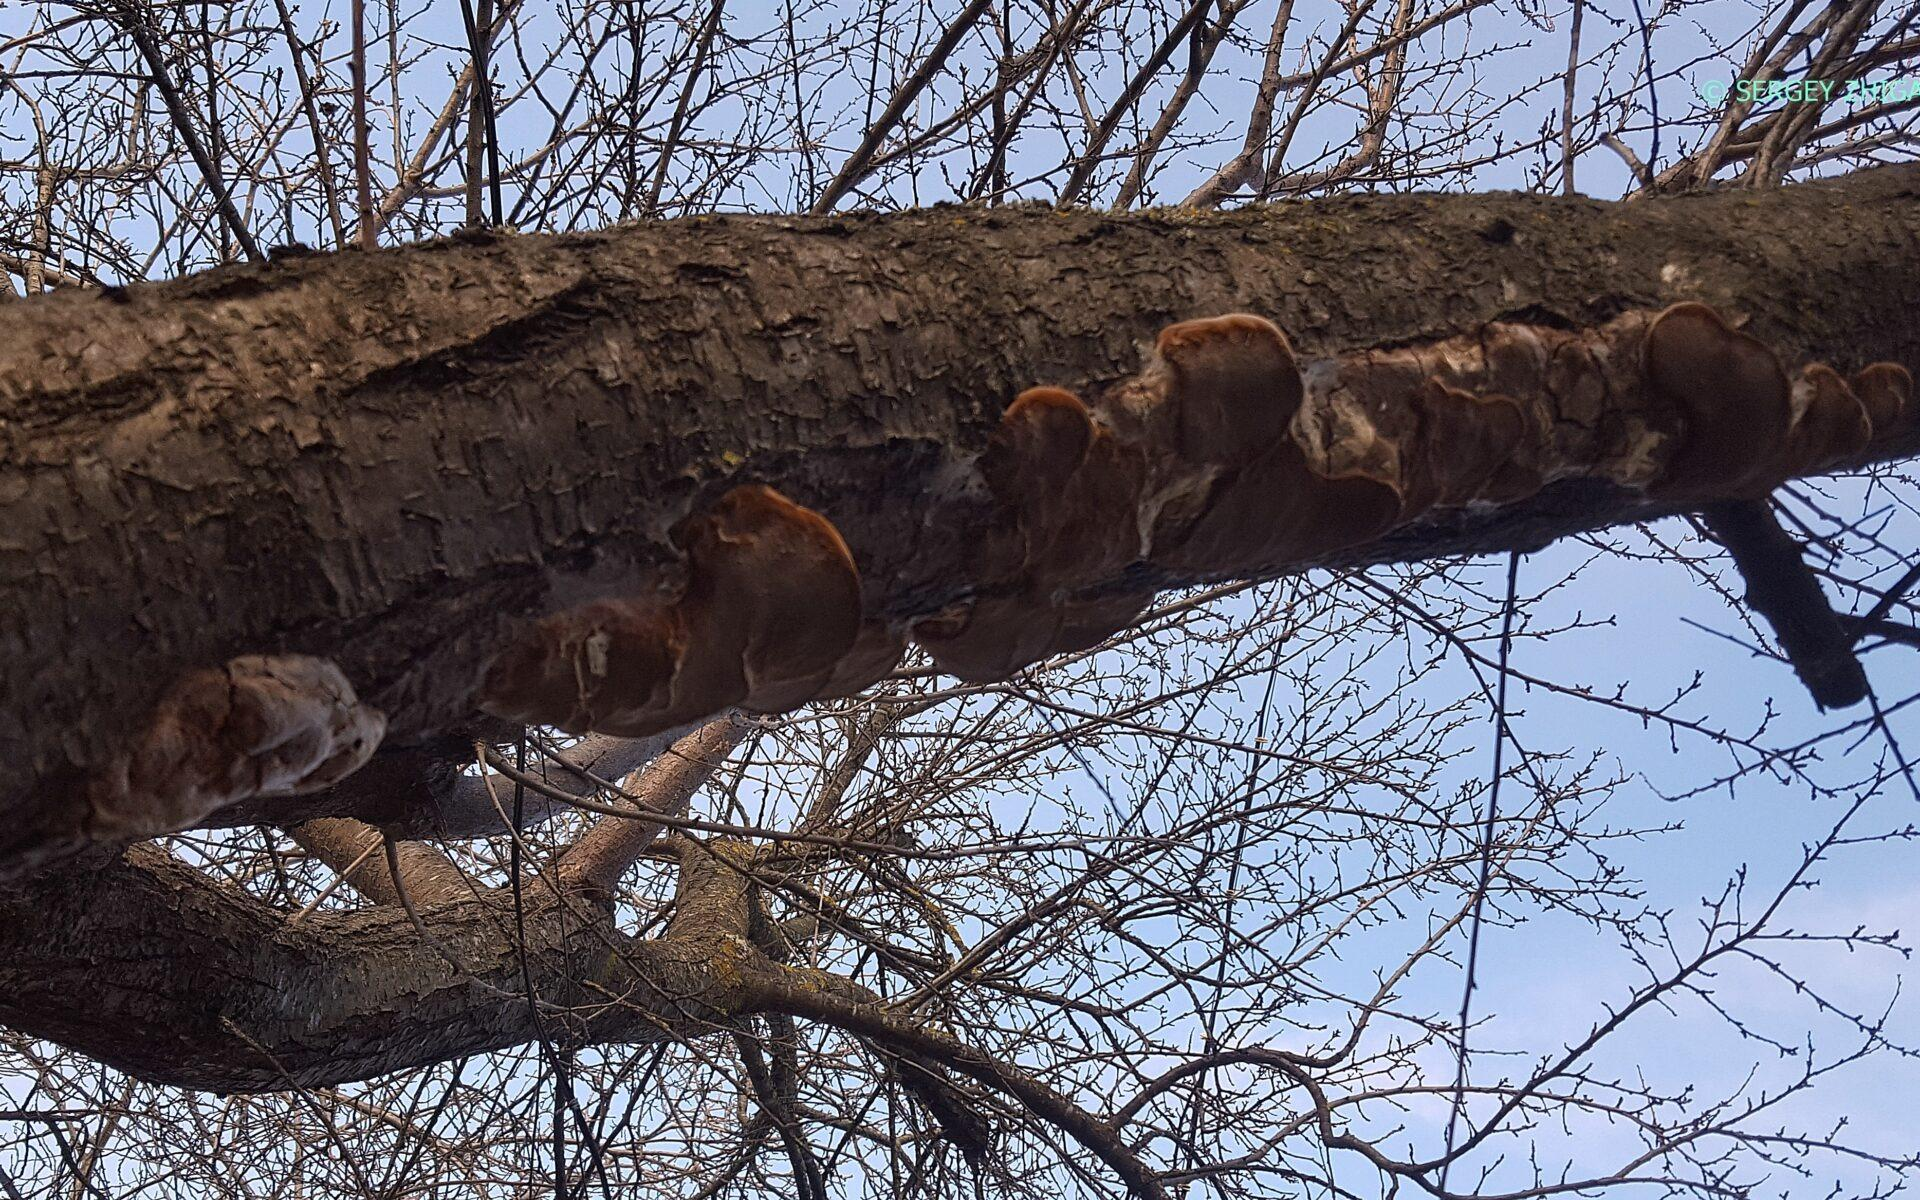Plum tinder fungus: (495, 488, 897, 759), (1205, 293, 1552, 572), (72, 596, 427, 864), (936, 361, 1194, 715), (1592, 292, 1920, 545)
